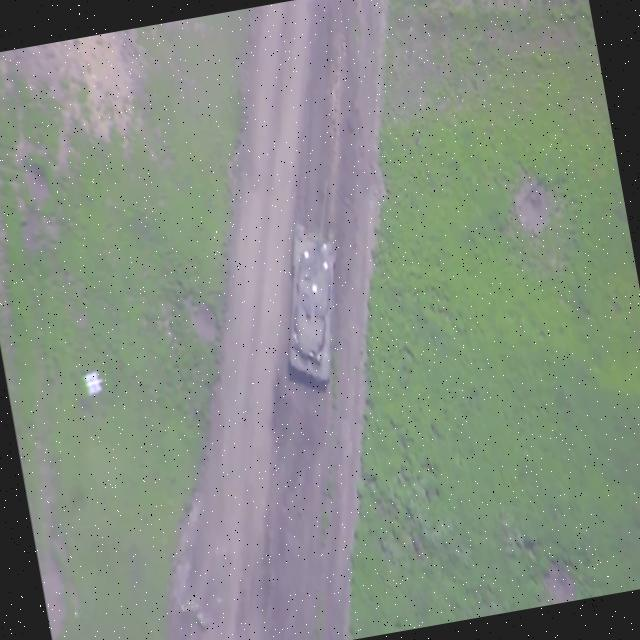MBT: (259, 178, 370, 394)
